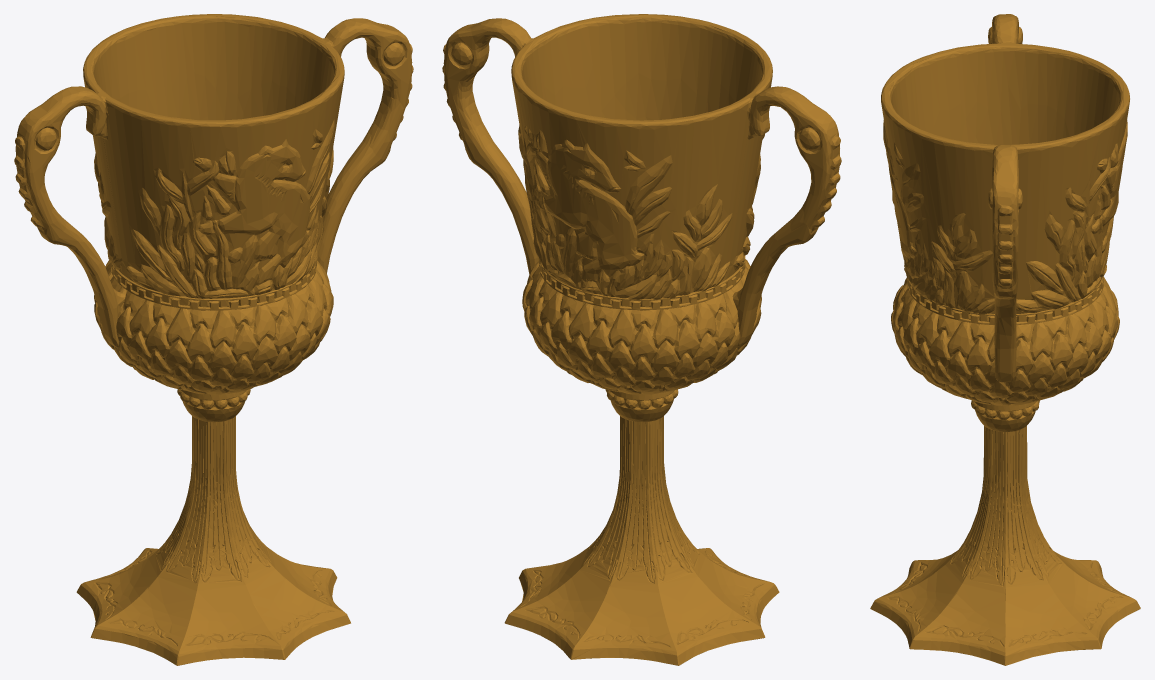
File: cup.glb
The picture shows the model from 3 angles, left to right: view 1: azimuth 30°, elevation 25°; view 2: azimuth 150°, elevation 25°; view 3: azimuth 270°, elevation 25°; orthographic projection. The views are drawn at different scales.
Visible parts, largest first — view 1: Hufflepuffs_Cup; view 2: Hufflepuffs_Cup; view 3: Hufflepuffs_Cup.
Part boxes in pixels (box(x1,y1,x2,y2)): Hufflepuffs_Cup: box(14, 14, 413, 665); Hufflepuffs_Cup: box(442, 14, 841, 665); Hufflepuffs_Cup: box(870, 14, 1140, 665).
Bounding box in the file's own units: 0.0897 × 0.1201 × 0.056.
